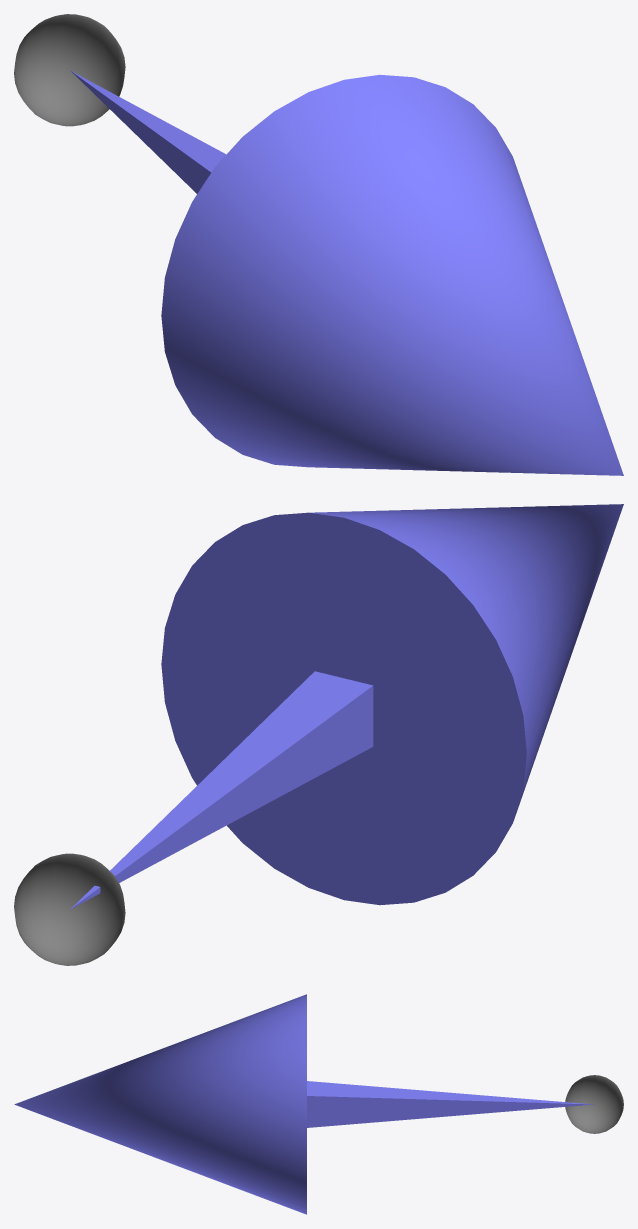
The model's file is widgetnormal.gltf.
3 views of the same model, one above another, from view 1: azimuth 30°, elevation 25°; view 2: azimuth 150°, elevation 25°; view 3: azimuth 270°, elevation 25° (orthographic). The views are drawn at different scales.
Visible parts, largest first — view 1: WidgetNormal; view 2: WidgetNormal; view 3: WidgetNormal.
Boxes of the visible parts, x1,y1,x2,y2 form: WidgetNormal: (14, 14, 623, 475); WidgetNormal: (14, 504, 623, 965); WidgetNormal: (14, 994, 623, 1214).
Size of the model in its own units: 0.06 by 0.06 by 0.1656.
1 material, 1 textured.
